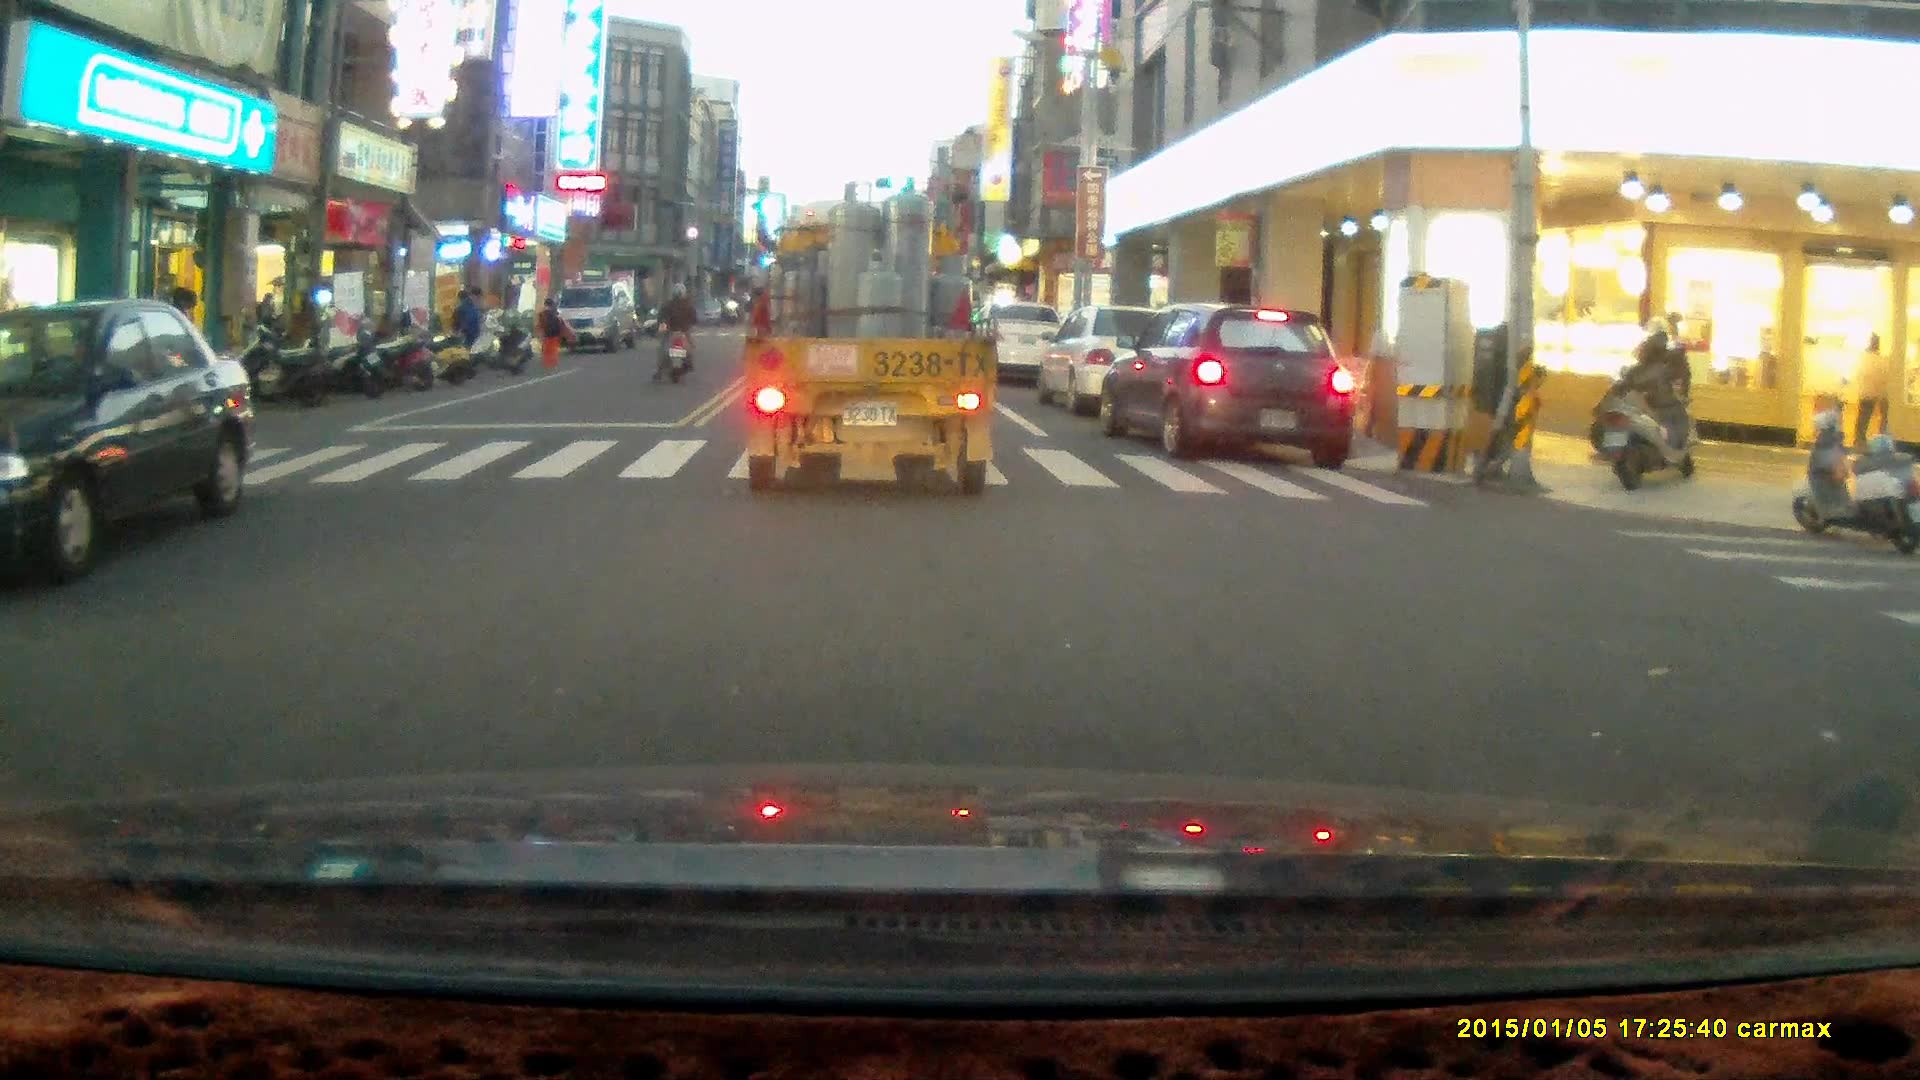pedestrian: (451, 282, 486, 369), (533, 292, 569, 367)
rider: (1587, 315, 1693, 468), (650, 277, 697, 385)
vehicle: (743, 173, 998, 499), (1, 296, 251, 579), (1105, 300, 1353, 466), (1047, 305, 1212, 419), (973, 299, 1075, 388), (549, 282, 643, 355)
